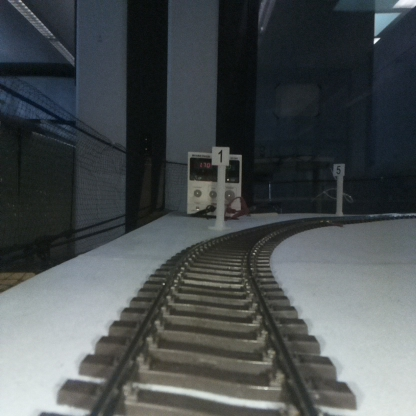white-info-1: (211, 147, 229, 227)
